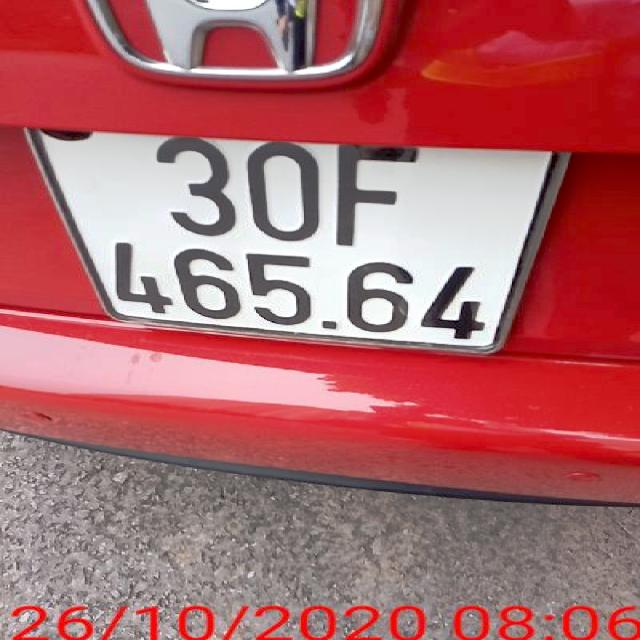license_plate: (38, 133, 563, 350)
